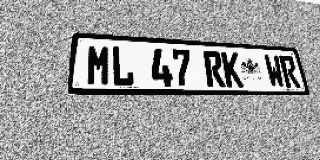4: (150, 48, 173, 87)
7: (171, 49, 194, 87)
K: (221, 52, 244, 87)
L: (111, 46, 135, 86)
M: (86, 44, 111, 86)
R: (203, 51, 226, 87), (279, 55, 301, 88)
W: (263, 54, 286, 88)
